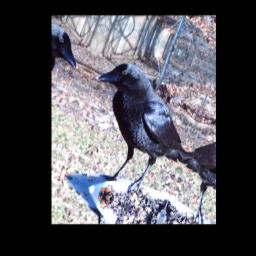Crow: (67, 52, 205, 211)
